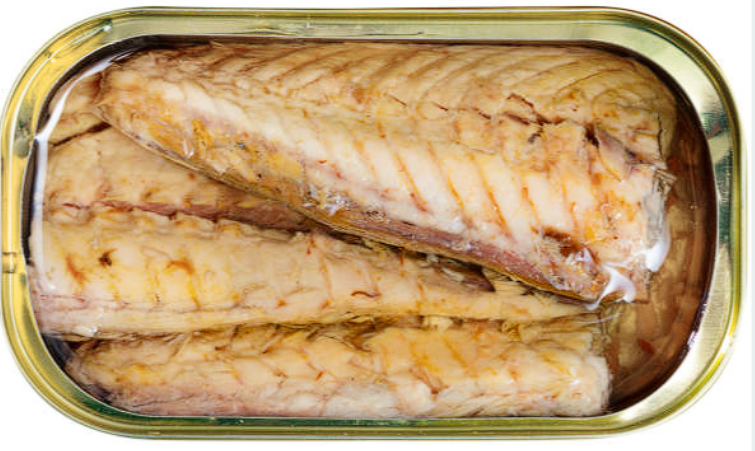Danificado: (4, 8, 755, 432)
